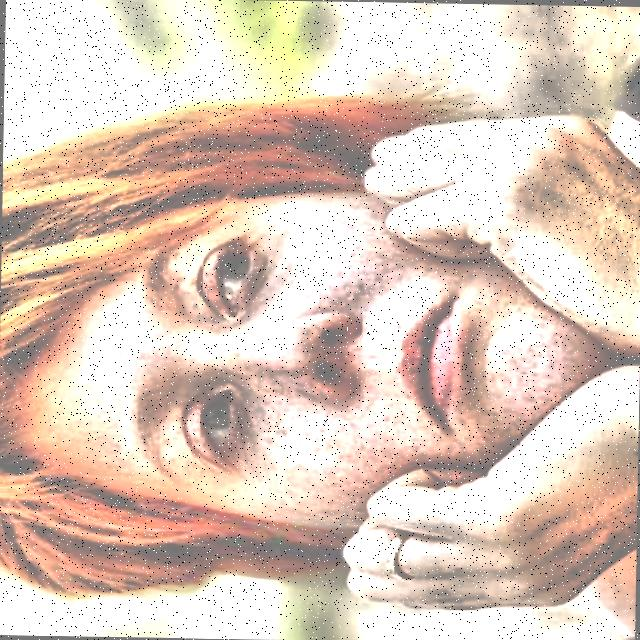sad: (0, 93, 588, 601)
